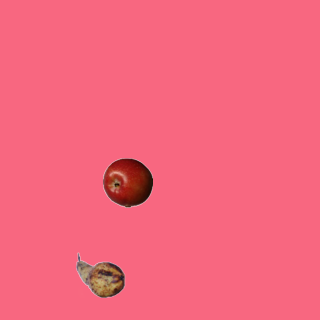Apple Braeburn: (102, 157, 152, 207)
Pear Abate: (75, 250, 125, 300)
